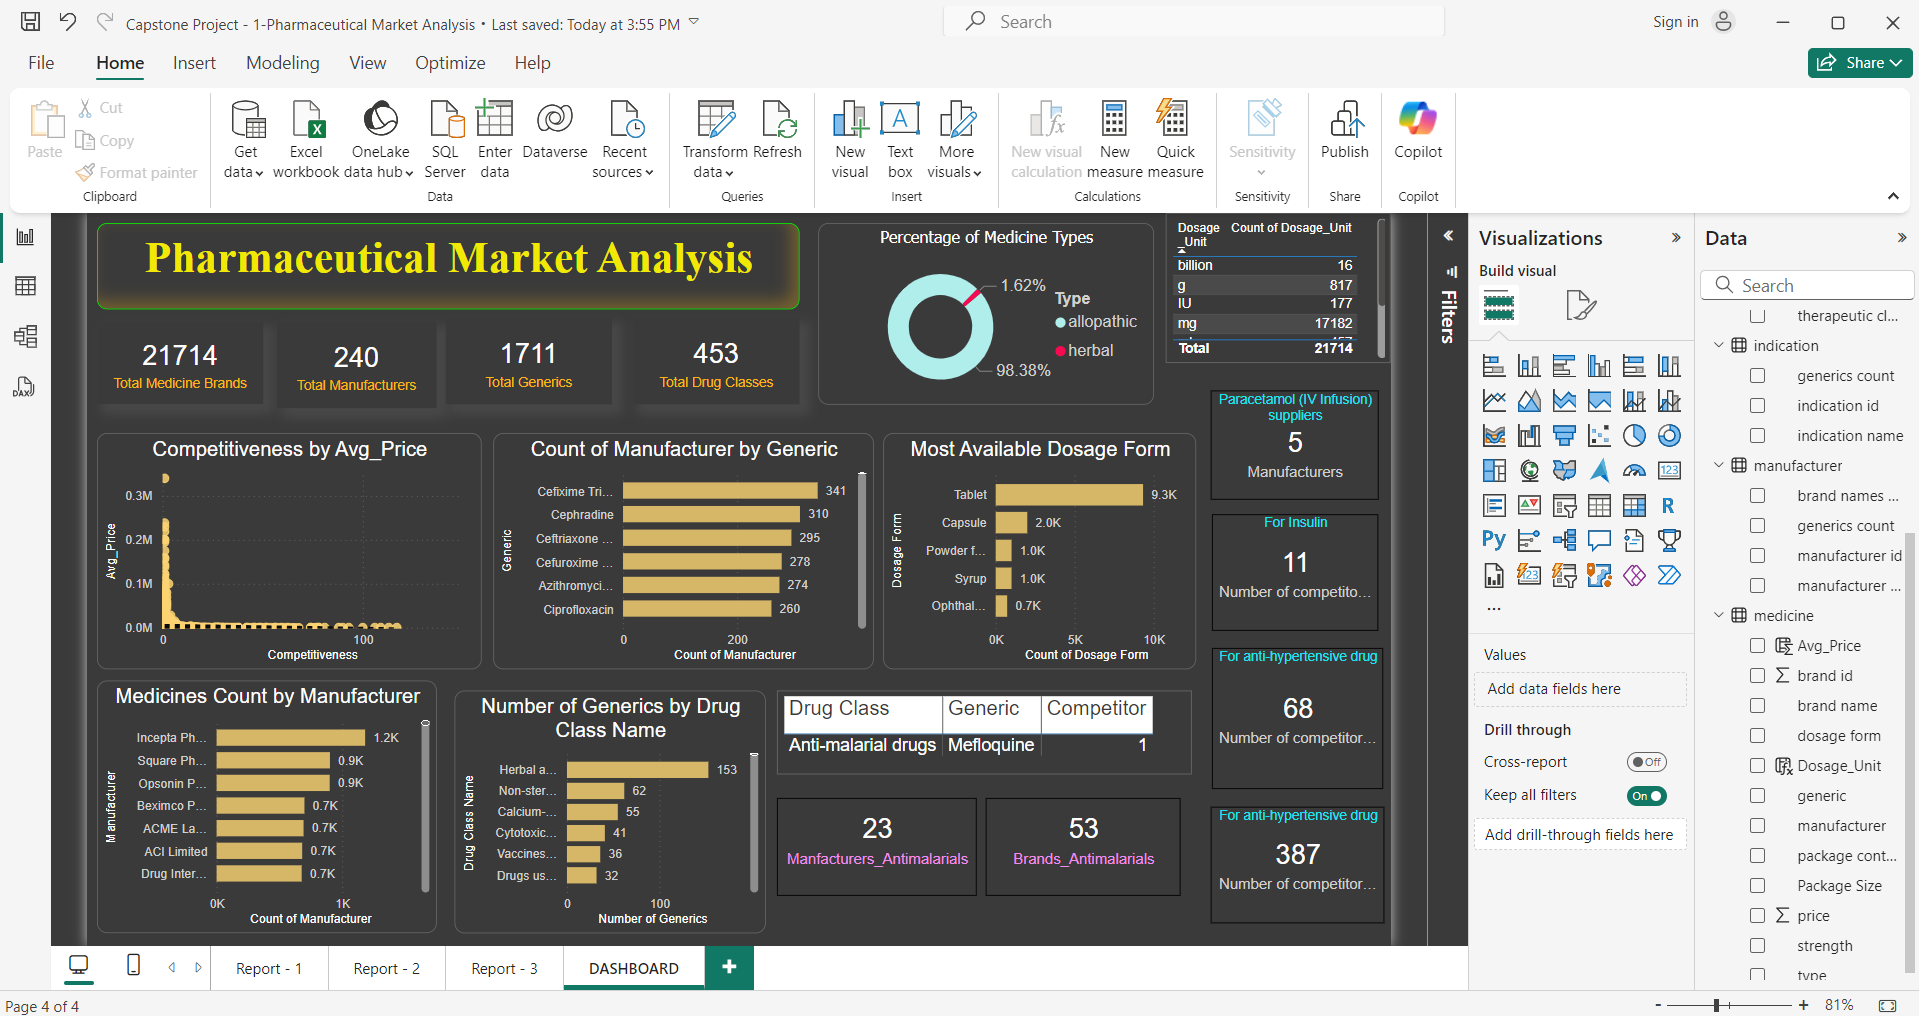

The page's visual inventory and layout, read from the dashboard file:
{"tool":"powerbi","page":{"name":"DASHBOARD","canvas":[1280,720],"ordinal":3},"visuals":[{"type":"textbox","box":[9.8,9.8,689.6,84.7],"z":0},{"type":"card","fields":{"Values":["CountNonNull(medicine.brand id)"]},"box":[9.6,107,163.3,81],"z":1},{"type":"card","fields":{"Values":["CountNonNull(manufacturer.manufacturer id)"]},"box":[186.6,107,156.4,85.1],"z":2},{"type":"card","fields":{"Values":["CountNonNull(generic.generic id)"]},"box":[352.7,102.9,163.3,85.1],"z":3},{"type":"card","fields":{"Values":["CountNonNull(drug class.drug class id)"]},"box":[536.5,102.9,163.3,85.1],"z":4},{"type":"donutChart","title":"Percentage of Medicine Types","fields":{"Category":["medicine.type"],"Y":["CountNonNull(medicine.brand id)"]},"box":[717.7,9.6,329.3,178.4],"z":6},{"type":"scatterChart","fields":{"Y":["medicine.Avg_Price"],"X":["medicine.manufacturer"]},"box":[9.6,215.4,377.4,231.9],"z":7},{"type":"clusteredBarChart","title":"Count of Manufacturer by Generic","fields":{"Category":["medicine.generic"],"Y":["CountNonNull(medicine.manufacturer)"]},"box":[399.3,215.4,373.2,231.9],"z":9},{"type":"clusteredBarChart","title":"Number of Generics by Drug Class Name","fields":{"Category":["drug class.drug class name"],"Y":["Sum(drug class.generics count)"]},"box":[360.7,468.7,305.5,238],"z":10},{"type":"card","title":"For anti-hypertensive drug","fields":{"Values":["CountNonNull(Anti-hypertensive-Brands.medicine.brand name)"]},"box":[1103.1,582.8,170.6,114.1],"z":11},{"type":"card","title":"For anti-hypertensive drug","fields":{"Values":["CountNonNull(Anti-hypertensive-Manufacturers.medicine.manufacturer)"]},"box":[1104.3,427,168.1,138.7],"z":12},{"type":"card","title":" Paracetamol (IV Infusion) suppliers","fields":{"Values":["Count(medicine.manufacturer)"]},"box":[1103.3,174.3,164.7,107],"z":13},{"type":"card","title":"For Insulin","fields":{"Values":["Count(medicine.manufacturer)"]},"box":[1104.3,295.7,163.2,114.1],"z":14},{"type":"clusteredBarChart","title":"Medicines Count by Manufacturer","fields":{"Category":["medicine.manufacturer"],"Y":["CountNonNull(medicine.manufacturer)"]},"box":[9.8,458.9,333.7,247.9],"z":15},{"type":"tableEx","fields":{"Values":["medicine.Dosage_Unit","CountNonNull(medicine.Dosage_Unit)"]},"box":[1059.4,0,220.9,146.8],"z":16},{"type":"barChart","title":"Most Available Dosage Form  ","fields":{"Category":["medicine.dosage form"],"Y":["CountNonNull(medicine.dosage form)"]},"box":[782.2,215.4,307.4,231.9],"z":17},{"type":"tableEx","fields":{"Values":["generic.drug class","generic.generic name","medicine.generic"]},"box":[677.3,468.7,407.4,82.2],"z":18},{"type":"card","fields":{"Values":["Count(medicine.manufacturer)"]},"box":[677.3,574.2,196.3,95.7],"z":19},{"type":"card","fields":{"Values":["CountNonNull(medicine.brand name)"]},"box":[882.2,574.2,191.4,95.7],"z":20}]}

Visuals, with their boxes on the page's 1280x720 design canvas (x1, y1, x2, y2). These are canvas units, not pixel positions in the 1919x1016 screenshot, which may show the page scaled, cropped or inside an application window:
textbox: [x1=10, y1=10, x2=699, y2=94]
card - CountNonNull(medicine.brand id): [x1=10, y1=107, x2=173, y2=188]
card - CountNonNull(manufacturer.manufacturer id): [x1=187, y1=107, x2=343, y2=192]
card - CountNonNull(generic.generic id): [x1=353, y1=103, x2=516, y2=188]
card - CountNonNull(drug class.drug class id): [x1=536, y1=103, x2=700, y2=188]
"Percentage of Medicine Types" donutChart: [x1=718, y1=10, x2=1047, y2=188]
scatterChart - medicine.Avg_Price x medicine.manufacturer: [x1=10, y1=215, x2=387, y2=447]
"Count of Manufacturer by Generic" clusteredBarChart: [x1=399, y1=215, x2=772, y2=447]
"Number of Generics by Drug Class Name" clusteredBarChart: [x1=361, y1=469, x2=666, y2=707]
"For anti-hypertensive drug" card: [x1=1103, y1=583, x2=1274, y2=697]
"For anti-hypertensive drug" card: [x1=1104, y1=427, x2=1272, y2=566]
" Paracetamol (IV Infusion) suppliers" card: [x1=1103, y1=174, x2=1268, y2=281]
"For Insulin" card: [x1=1104, y1=296, x2=1268, y2=410]
"Medicines Count by Manufacturer" clusteredBarChart: [x1=10, y1=459, x2=344, y2=707]
tableEx - medicine.Dosage_Unit x CountNonNull(medicine.Dosage_Unit): [x1=1059, y1=0, x2=1280, y2=147]
"Most Available Dosage Form  " barChart: [x1=782, y1=215, x2=1090, y2=447]
tableEx - generic.drug class x generic.generic name: [x1=677, y1=469, x2=1085, y2=551]
card - Count(medicine.manufacturer): [x1=677, y1=574, x2=874, y2=670]
card - CountNonNull(medicine.brand name): [x1=882, y1=574, x2=1074, y2=670]
